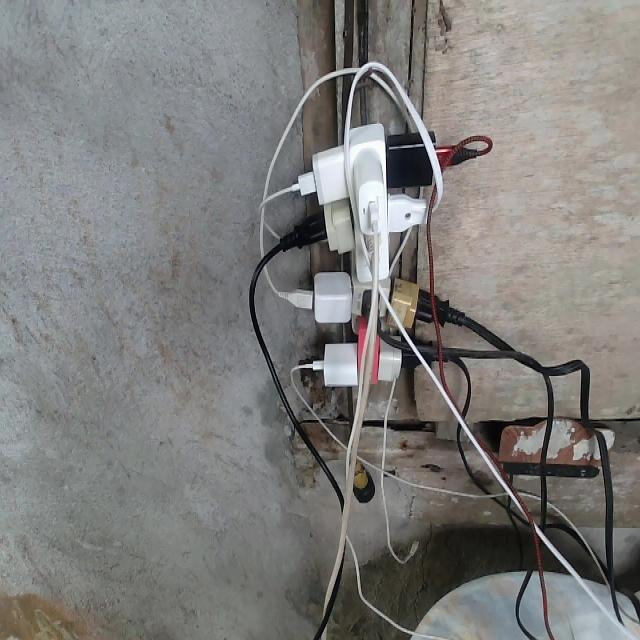-: (277, 121, 492, 384)
